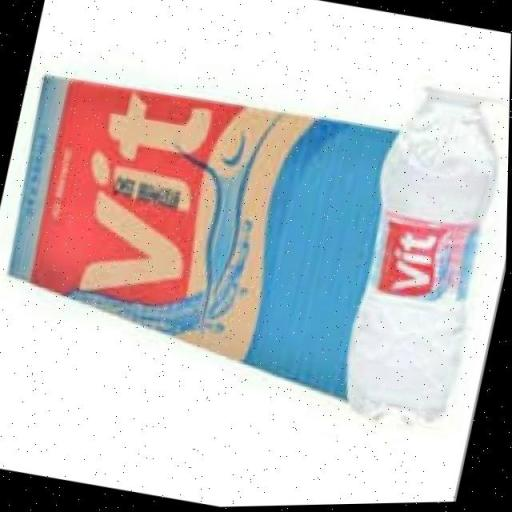plastic: (327, 54, 511, 449)
